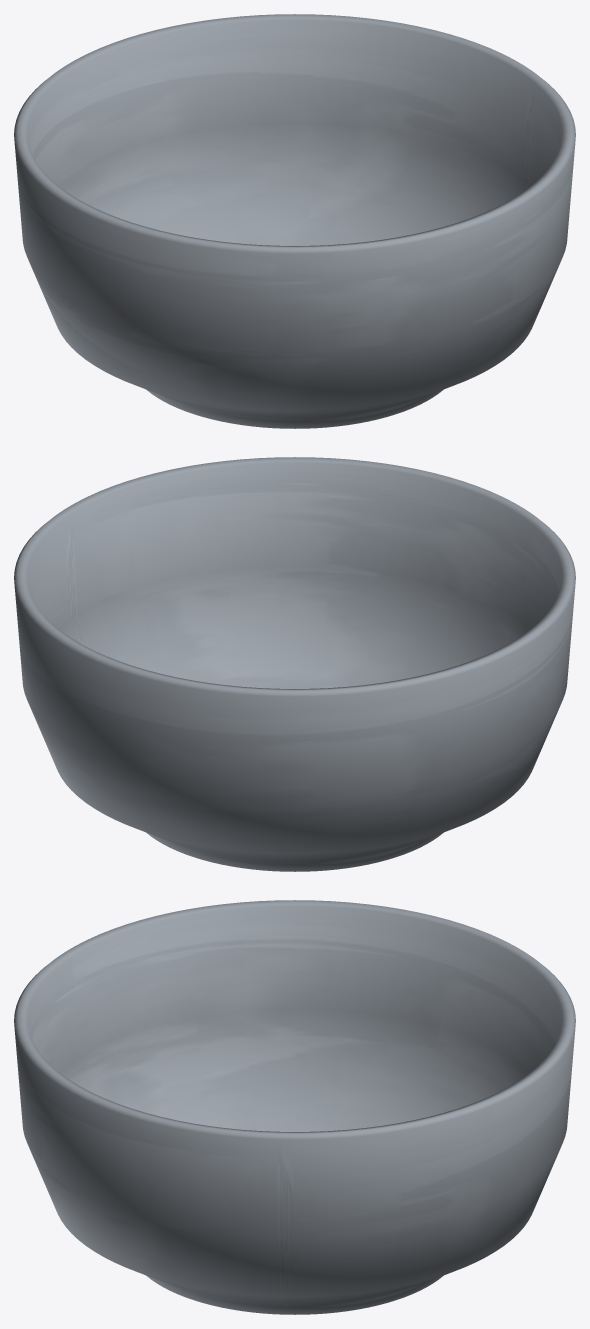
File: dishware__steel_bowl.glb
3 views of the same model, one above another, from view 1: azimuth 30°, elevation 25°; view 2: azimuth 150°, elevation 25°; view 3: azimuth 270°, elevation 25° (orthographic).
Parts seen in each view (by area): view 1: body; view 2: body; view 3: body.
Boxes of the visible parts, x1,y1,x2,y2 form: body: (14,14,575,428); body: (14,457,575,871); body: (14,900,575,1314).
Size of the model in its own units: 0.132 by 0.059 by 0.132.
1 material, 1 textured.
